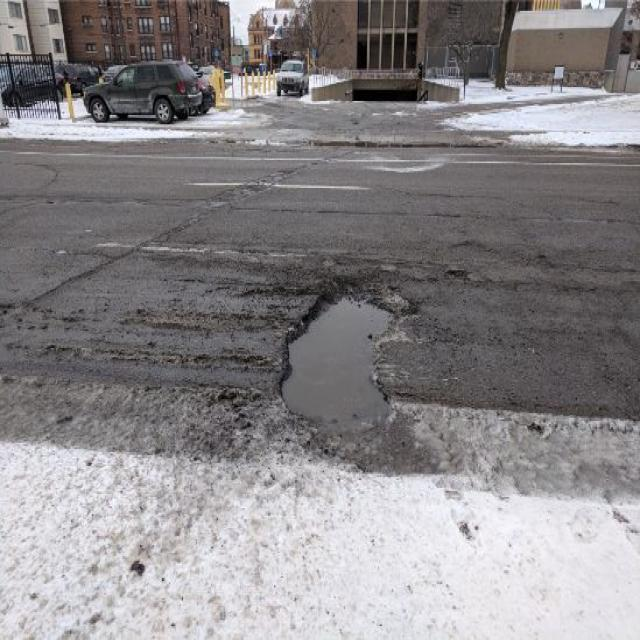pothole: (275, 274, 415, 434)
